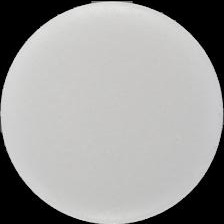0615-7712: (0, 0, 224, 224)
